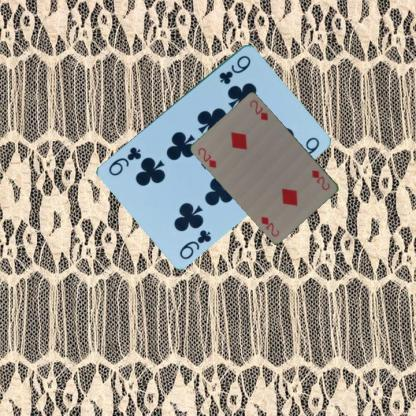2d: (309, 166, 332, 192), (195, 144, 218, 170)
9c: (216, 52, 252, 86), (176, 226, 212, 260)
